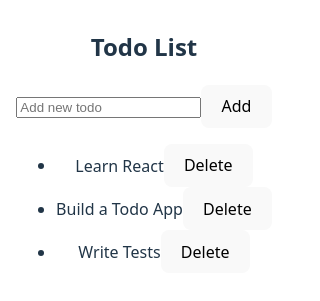
Test: TodoList Component › adds a new todo
This screenshot has width=320, height=301.
Type "New Todo" into the field with test id "add-todo-input" at coordinates (109, 108), box [16,97,201,118]
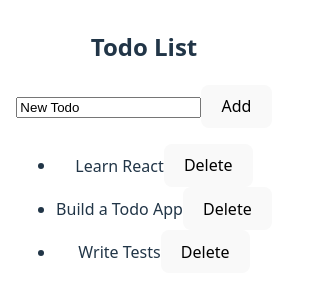
Submit the form with test id "add-todo-form", box [16,84,272,128]
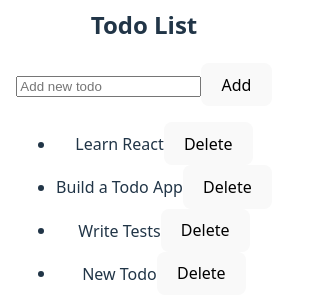
Check: the list item "New Todo" is shown, box [82,262,157,284]
